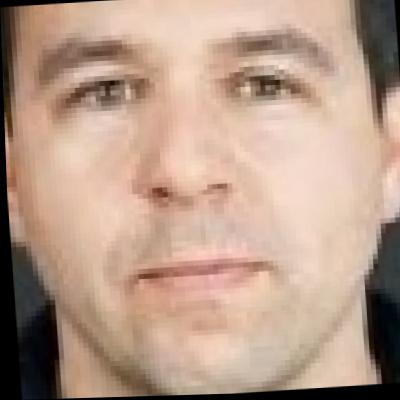netural: (9, 0, 381, 379)
